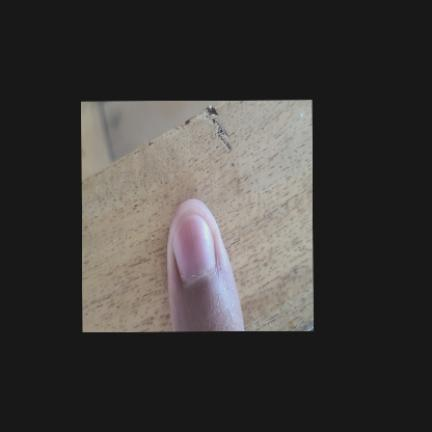Nail: (173, 215, 216, 283)
